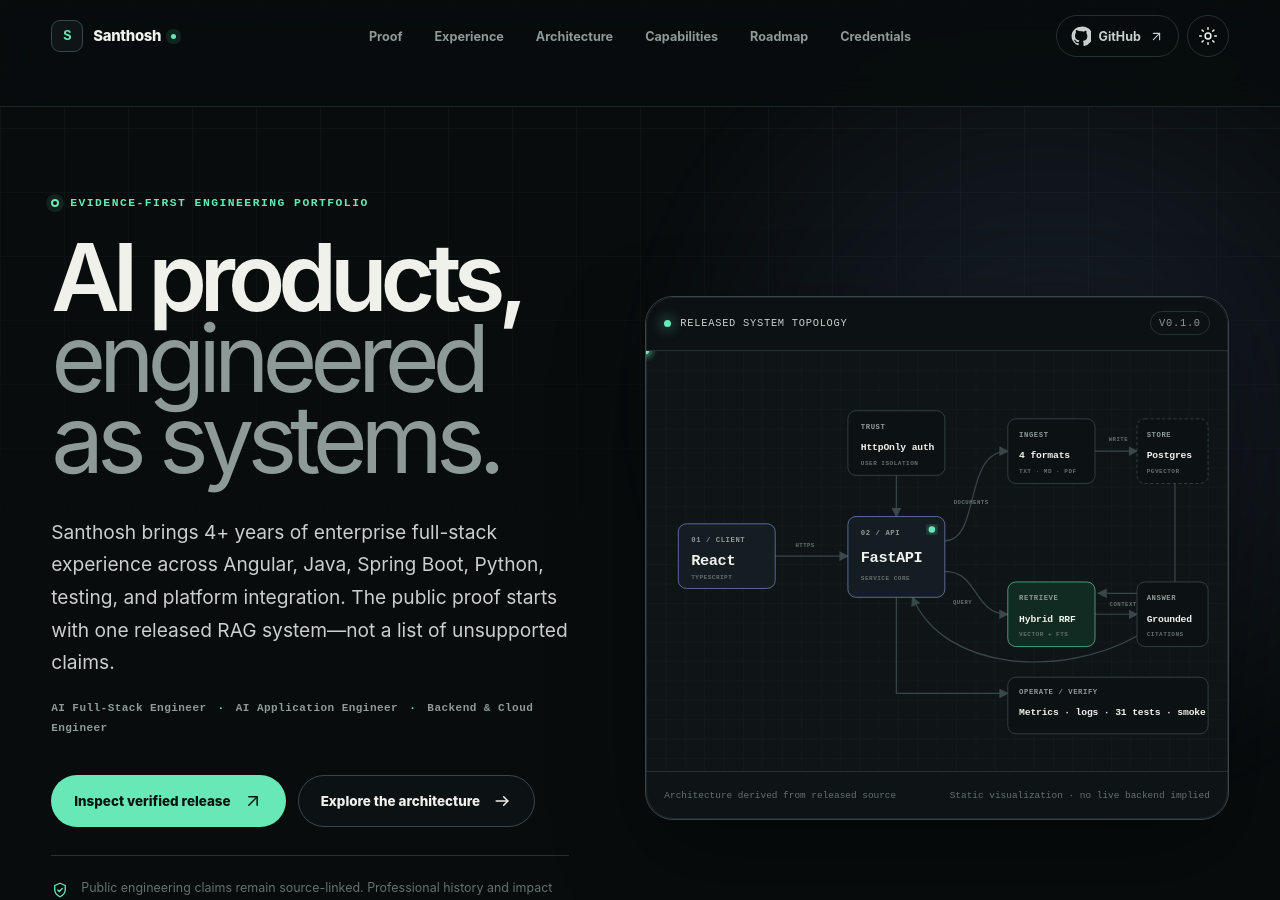
Test: portfolio application › toggles and persists the color theme
Click the button named "Switch to light theme": (1208,36) [1187,15,1229,57]
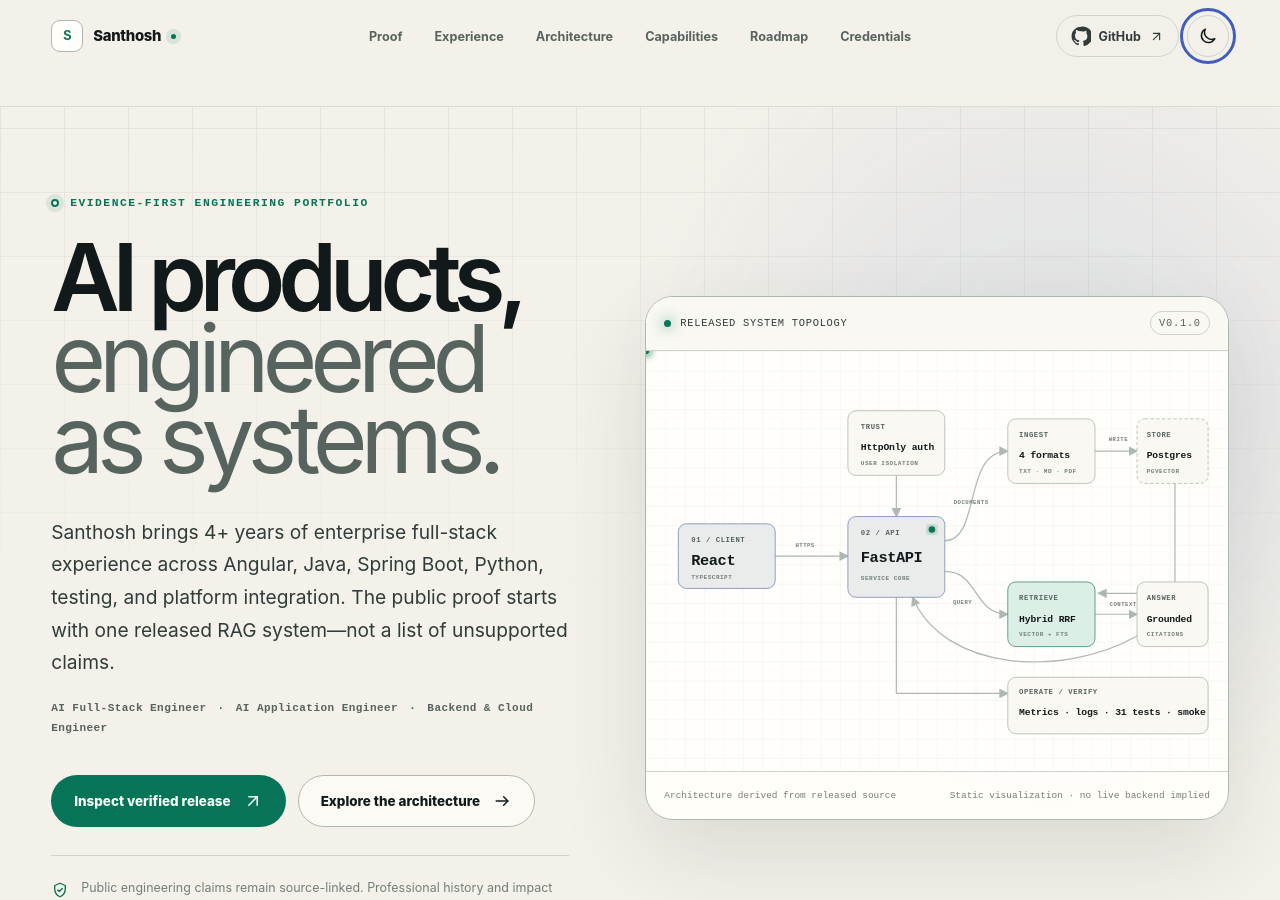
Expected: the button named "Switch to dark theme" is shown, [1187,15,1229,57]
